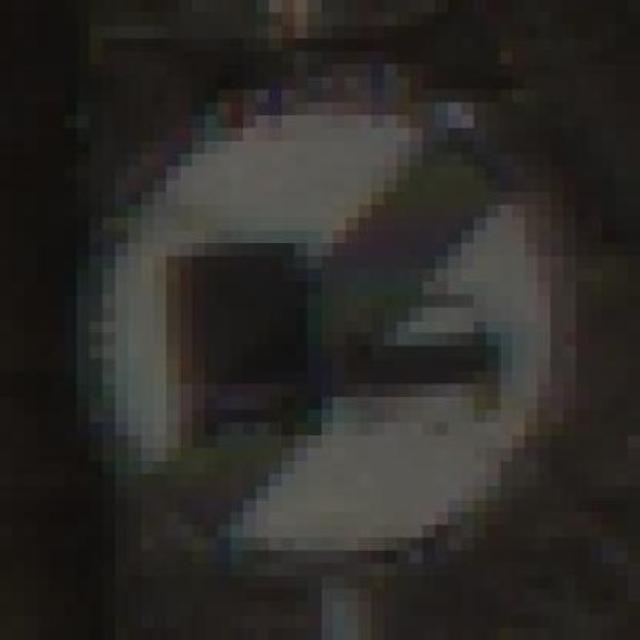Overtaking by trucks is prohibited: (51, 51, 602, 589)
